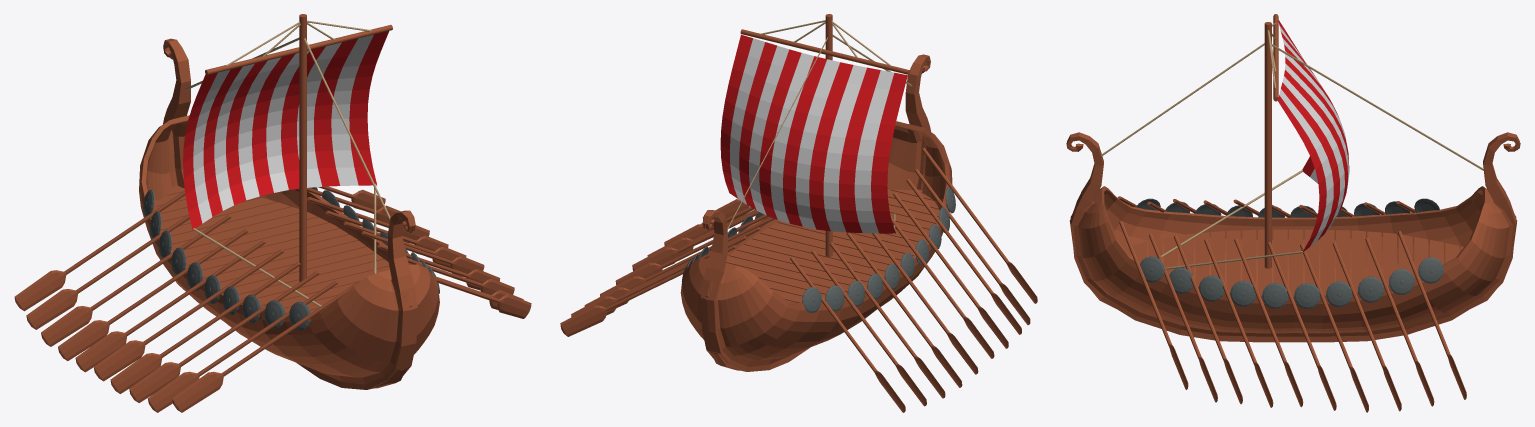
The model's file is viking.glb.
3 renders of one model, left to right at view 1: azimuth 30°, elevation 25°; view 2: azimuth 150°, elevation 25°; view 3: azimuth 270°, elevation 25°, orthographic. The views are drawn at different scales.
Visible parts, largest first — view 1: Plane.001, Plane, Cube, ShieldsLeft, Mast, Paddle.015, Paddle.012, Paddle.019, Paddle.013, Paddle.016, Paddle.017, Paddle.014 (+16 smaller); view 2: Plane.001, Plane, Cube, ShieldsLeft, Paddle, MastBeam, Paddle.016, Paddle.017, Paddle.019, Paddle.013, Paddle.012, Paddle.018 (+12 smaller); view 3: Plane, Cube, Plane.001, Cylinder, ShieldsLeft, Mast, Paddle.001, Paddle, Paddle.002, Paddle.009, Paddle.005, Paddle.004 (+8 smaller).
Boxes of the visible parts, <box> form: Plane.001: <box>183,31,389,229</box>; Plane: <box>139,38,439,389</box>; Cube: <box>153,185,389,313</box>; ShieldsLeft: <box>143,189,310,330</box>; Mast: <box>299,14,306,281</box>; Paddle.015: <box>93,249,283,381</box>; Paddle.012: <box>41,214,231,346</box>; Paddle.019: <box>172,280,360,412</box>; Paddle.013: <box>58,229,247,360</box>; Paddle.016: <box>110,261,300,393</box>; Paddle.017: <box>129,271,319,402</box>; Paddle.014: <box>75,240,265,372</box>; Plane.001: <box>720,34,907,233</box>; Plane: <box>680,54,952,371</box>; Cube: <box>726,189,939,302</box>; ShieldsLeft: <box>802,187,955,313</box>; Paddle: <box>560,245,735,336</box>; MastBeam: <box>740,29,910,74</box>; Paddle.016: <box>893,192,1008,348</box>; Paddle.017: <box>906,179,1021,334</box>; Paddle.019: <box>922,148,1037,303</box>; Paddle.013: <box>846,232,962,387</box>; Paddle.012: <box>829,242,945,398</box>; Paddle.018: <box>915,169,1030,324</box>; Plane: <box>1066,132,1520,342</box>; Cube: <box>1123,229,1463,295</box>; Plane.001: <box>1278,20,1349,252</box>; Cylinder: <box>1140,256,1443,308</box>; ShieldsLeft: <box>1136,198,1439,217</box>; Mast: <box>1264,22,1271,268</box>; Paddle.001: <box>1365,237,1434,406</box>; Paddle: <box>1398,231,1466,399</box>; Paddle.002: <box>1332,242,1401,411</box>; Paddle.009: <box>1119,221,1188,389</box>; Paddle.005: <box>1234,238,1303,407</box>; Paddle.004: <box>1267,242,1336,410</box>.
Size of the model in its own units: 10.12 by 8.4 by 10.97.
